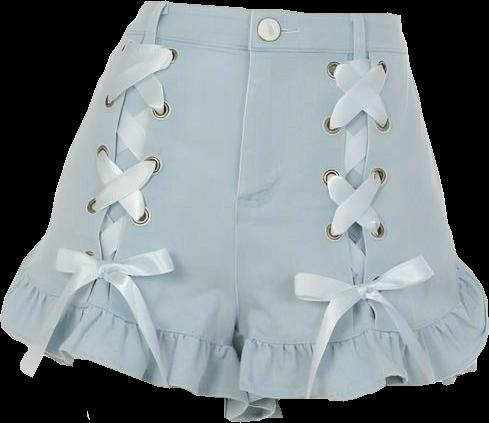Hemline: (0, 317, 249, 408), (243, 333, 488, 403)
Pantleg: (0, 1, 252, 405), (235, 7, 488, 400)
Waistline: (23, 250, 236, 353), (240, 253, 462, 347), (121, 30, 410, 56), (142, 1, 401, 18)
